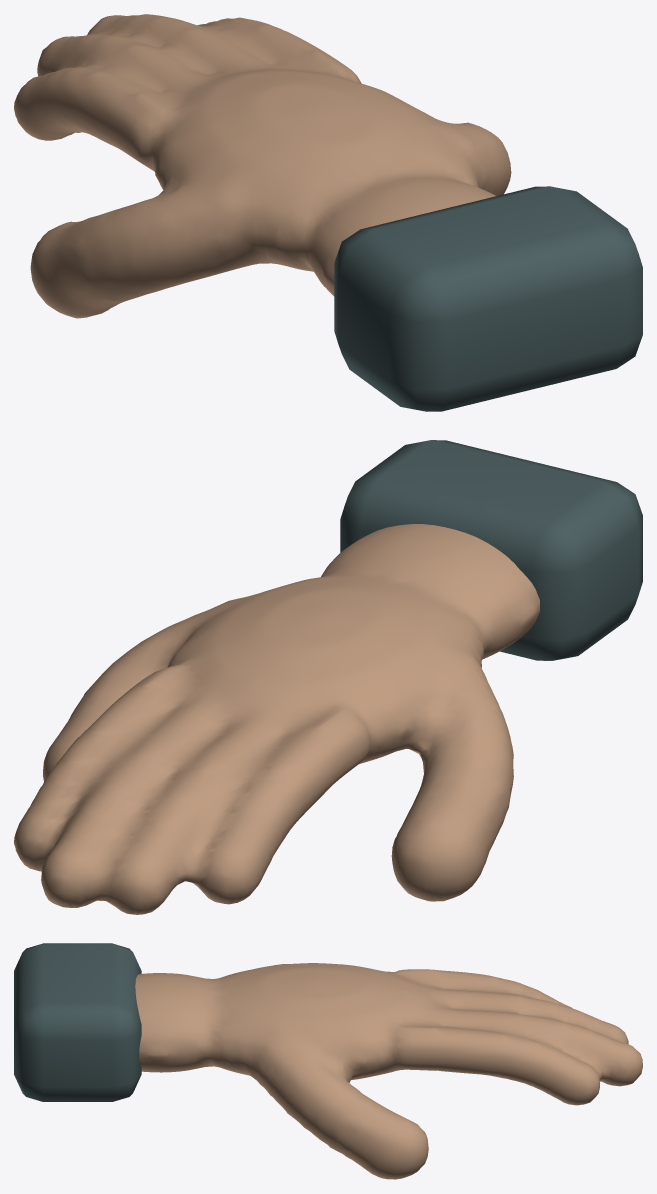
The model's file is opening-hands.glb.
3 views of the same model, one above another, from view 1: azimuth 30°, elevation 25°; view 2: azimuth 150°, elevation 25°; view 3: azimuth 270°, elevation 25° (orthographic). The views are drawn at different scales.
Visible parts, largest first — view 1: LeftSculptedHand, LeftCuff, RightSculptedHand; view 2: LeftSculptedHand, RightSculptedHand, LeftCuff; view 3: LeftSculptedHand, LeftCuff, RightSculptedHand.
Boxes of the visible parts, x1,y1,x2,y2 form: LeftSculptedHand: (14,14,511,296); LeftCuff: (334,186,642,411); RightSculptedHand: (17,14,491,318); LeftSculptedHand: (14,524,539,914); RightSculptedHand: (14,528,538,914); LeftCuff: (340,440,642,660); LeftSculptedHand: (135,963,642,1179); LeftCuff: (14,943,141,1101); RightSculptedHand: (137,963,639,1105).
Size of the model in its own units: 0.2565 by 0.1198 by 0.4731.
